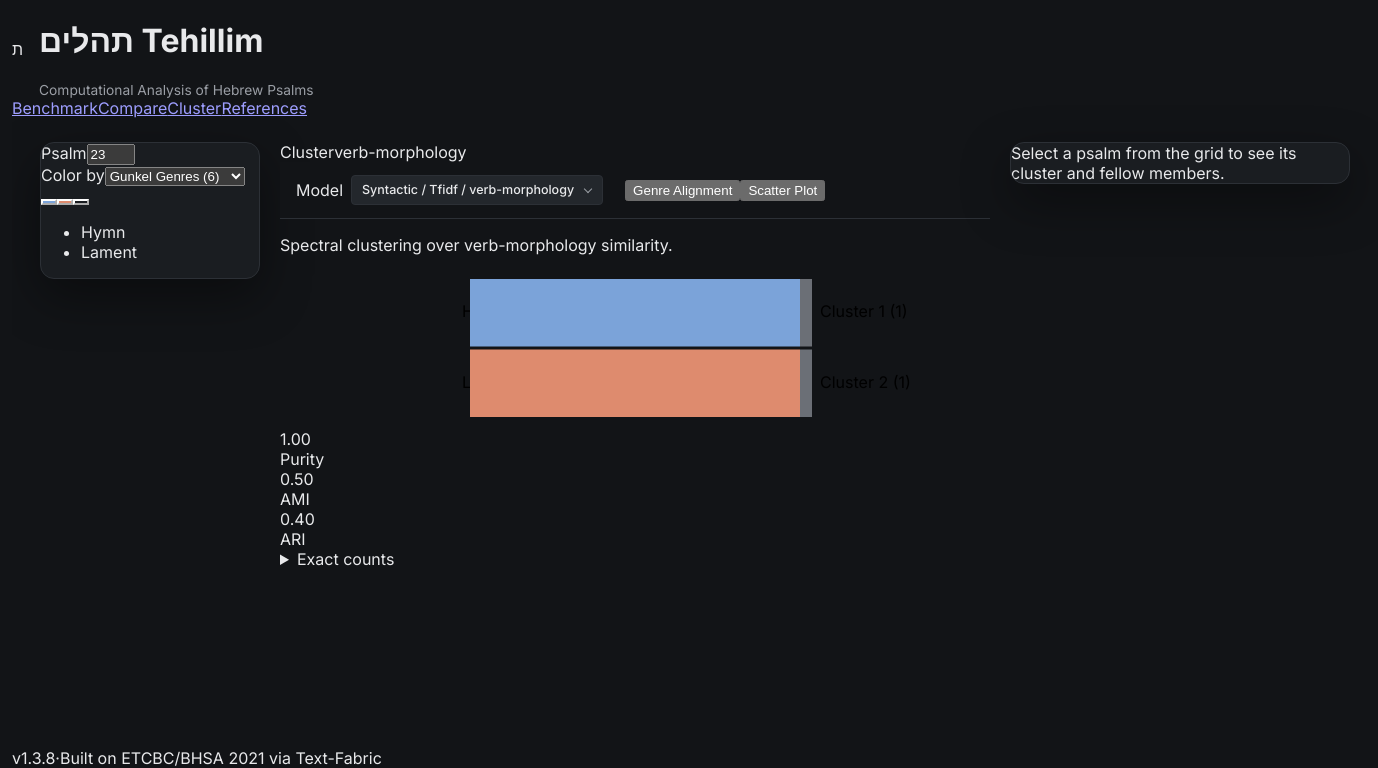
Test: ClusterPage › shows a psalm's cluster and fellow members once chosen
Click the option named "Psalm 1". click: click(49, 202)
box: 41,199 -> 57,205
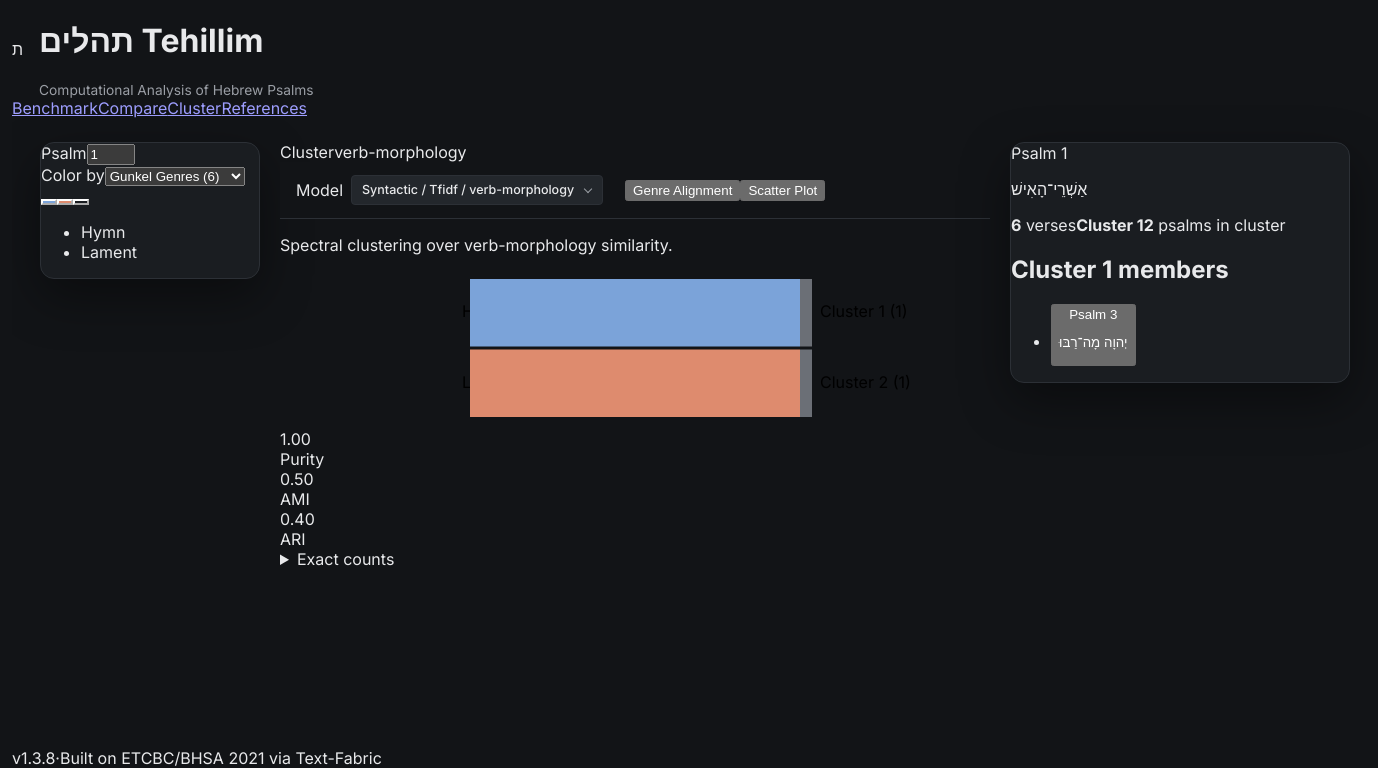
Expected: the heading "Cluster 1 members" is shown, 1011,255 -> 1229,284
Expected: the button "Psalm 3 יְהוָה מָה־רַבּוּ" is shown, 1051,304 -> 1136,366
